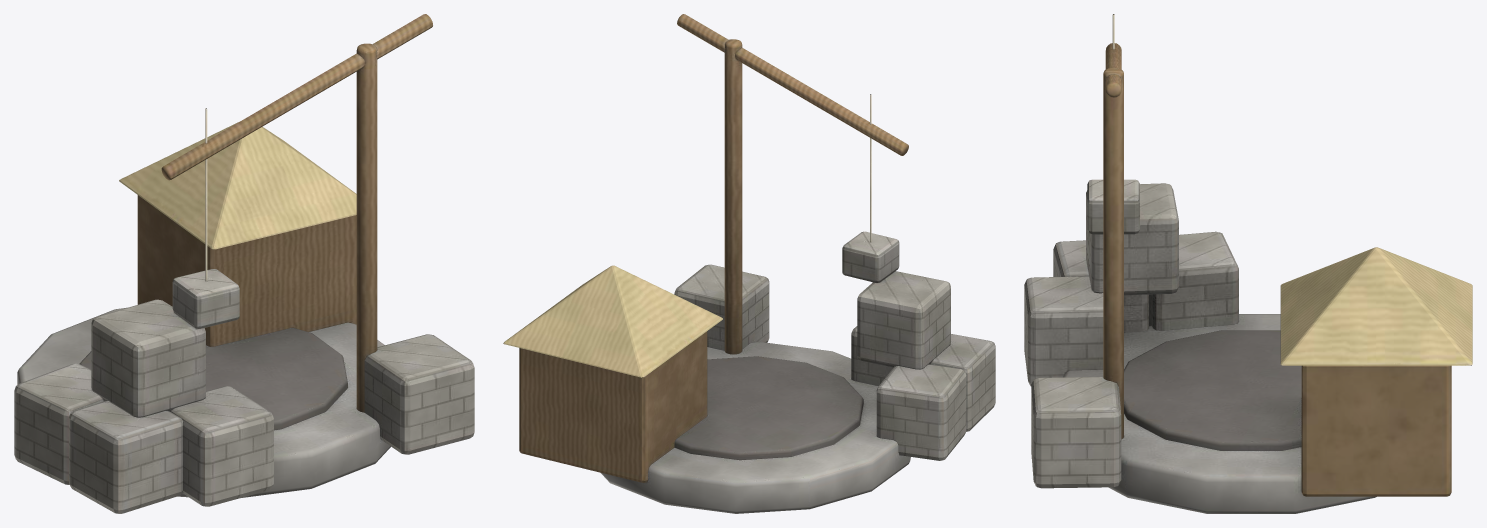
File: quarry.glb
The picture shows the model from 3 angles, left to right: view 1: azimuth 30°, elevation 25°; view 2: azimuth 150°, elevation 25°; view 3: azimuth 270°, elevation 25°; orthographic projection. The views are drawn at different scales.
Visible parts, largest first — view 1: quarry; view 2: quarry; view 3: quarry.
Boxes of the visible parts, left/top/right/bottom form: quarry: left=14, top=14, right=474, bottom=513; quarry: left=503, top=14, right=995, bottom=513; quarry: left=1024, top=14, right=1472, bottom=513.
Size of the model in its own units: 3.67 by 3.73 by 3.58.
1 material, 1 textured.
